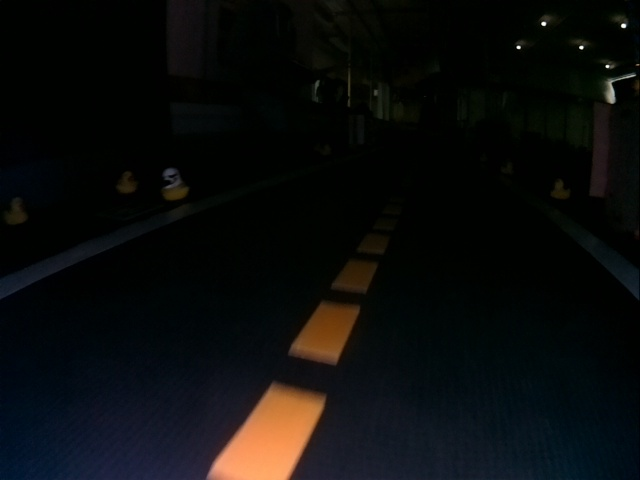Duckie: (162, 169, 188, 195), (5, 198, 27, 225), (118, 171, 137, 192)
